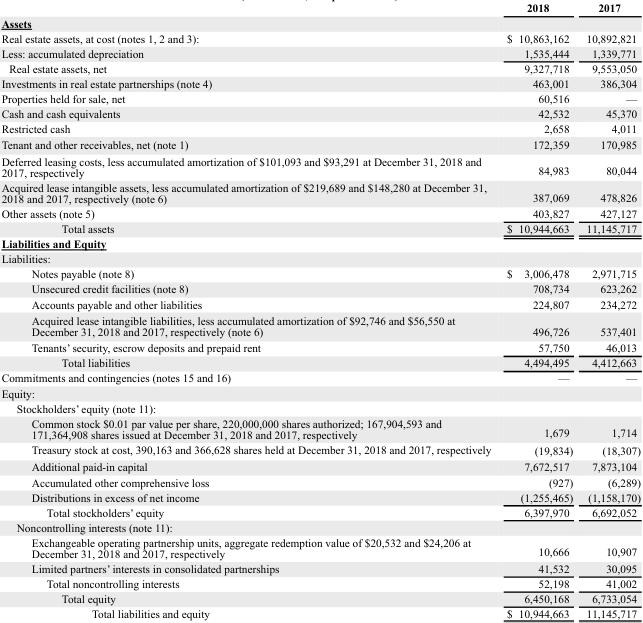table: (0, 1, 640, 619)
table column: (0, 1, 498, 619), (498, 1, 578, 619), (578, 1, 640, 619)
table column header: (0, 1, 640, 15)
table projected row header: (0, 250, 640, 266), (0, 15, 640, 30), (0, 235, 640, 250), (0, 385, 640, 400), (0, 400, 640, 415), (0, 519, 640, 534)
table row: (0, 311, 640, 339), (0, 152, 640, 179), (0, 179, 640, 205), (0, 415, 640, 441), (0, 534, 640, 560), (0, 441, 640, 458), (0, 120, 640, 136), (0, 136, 640, 152), (0, 250, 640, 266), (0, 339, 640, 355), (0, 458, 640, 474), (0, 15, 640, 30), (0, 30, 640, 45), (0, 45, 640, 60), (0, 60, 640, 75), (0, 75, 640, 90), (0, 90, 640, 105), (0, 105, 640, 120), (0, 205, 640, 220), (0, 220, 640, 235), (0, 235, 640, 250), (0, 266, 640, 281), (0, 281, 640, 296), (0, 296, 640, 311), (0, 355, 640, 370), (0, 370, 640, 385), (0, 385, 640, 400), (0, 400, 640, 415), (0, 474, 640, 489), (0, 489, 640, 504), (0, 504, 640, 519), (0, 519, 640, 534), (0, 560, 640, 575), (0, 575, 640, 590), (0, 590, 640, 605), (0, 1, 640, 15), (0, 605, 640, 619)
